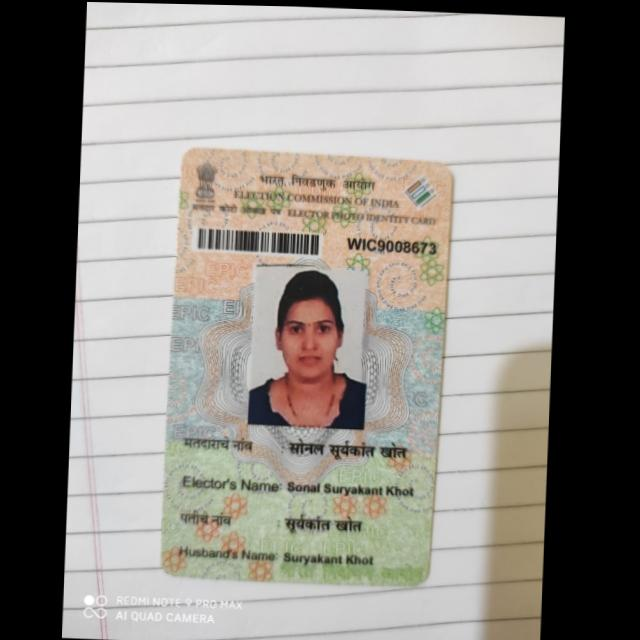voter_id: (158, 139, 459, 592)
